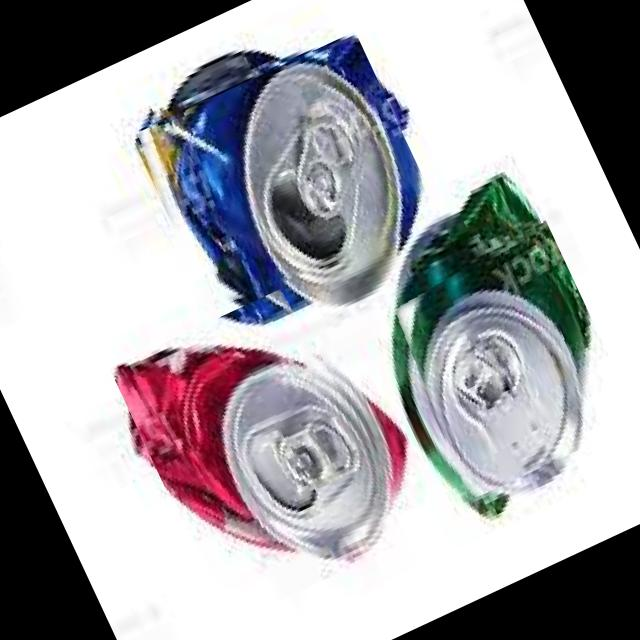Cans: (108, 278, 411, 603), (118, 31, 442, 329), (374, 218, 638, 501)
